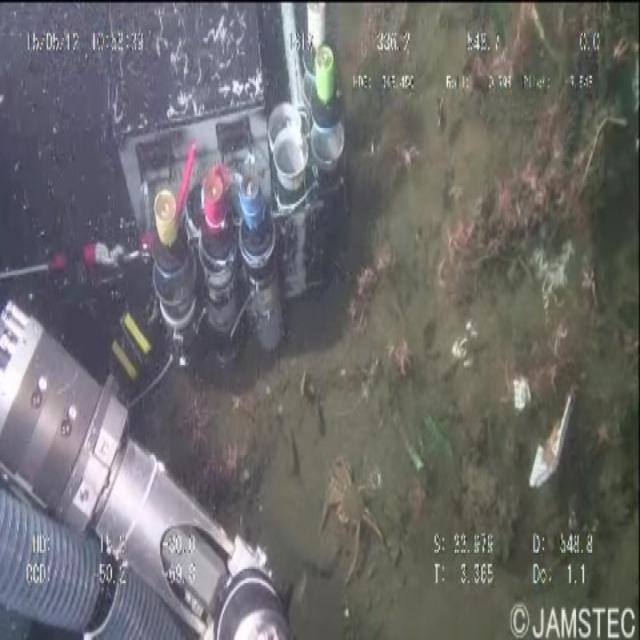Litter: (525, 392, 585, 536)
Natual-Debris: (320, 437, 421, 616)
